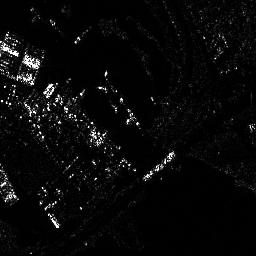ship: (143, 148, 175, 182)
